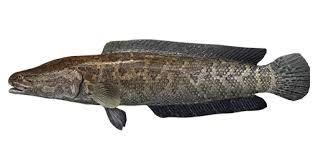Snakehead: (7, 38, 312, 131)
